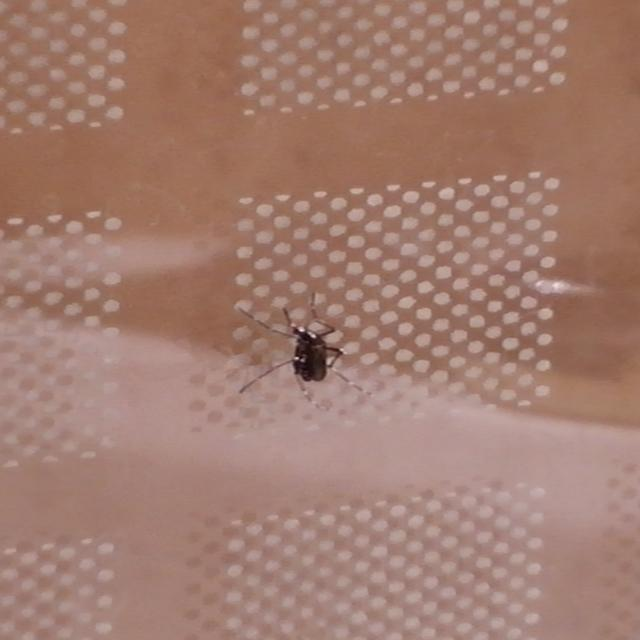albopictus: (223, 285, 364, 407)
